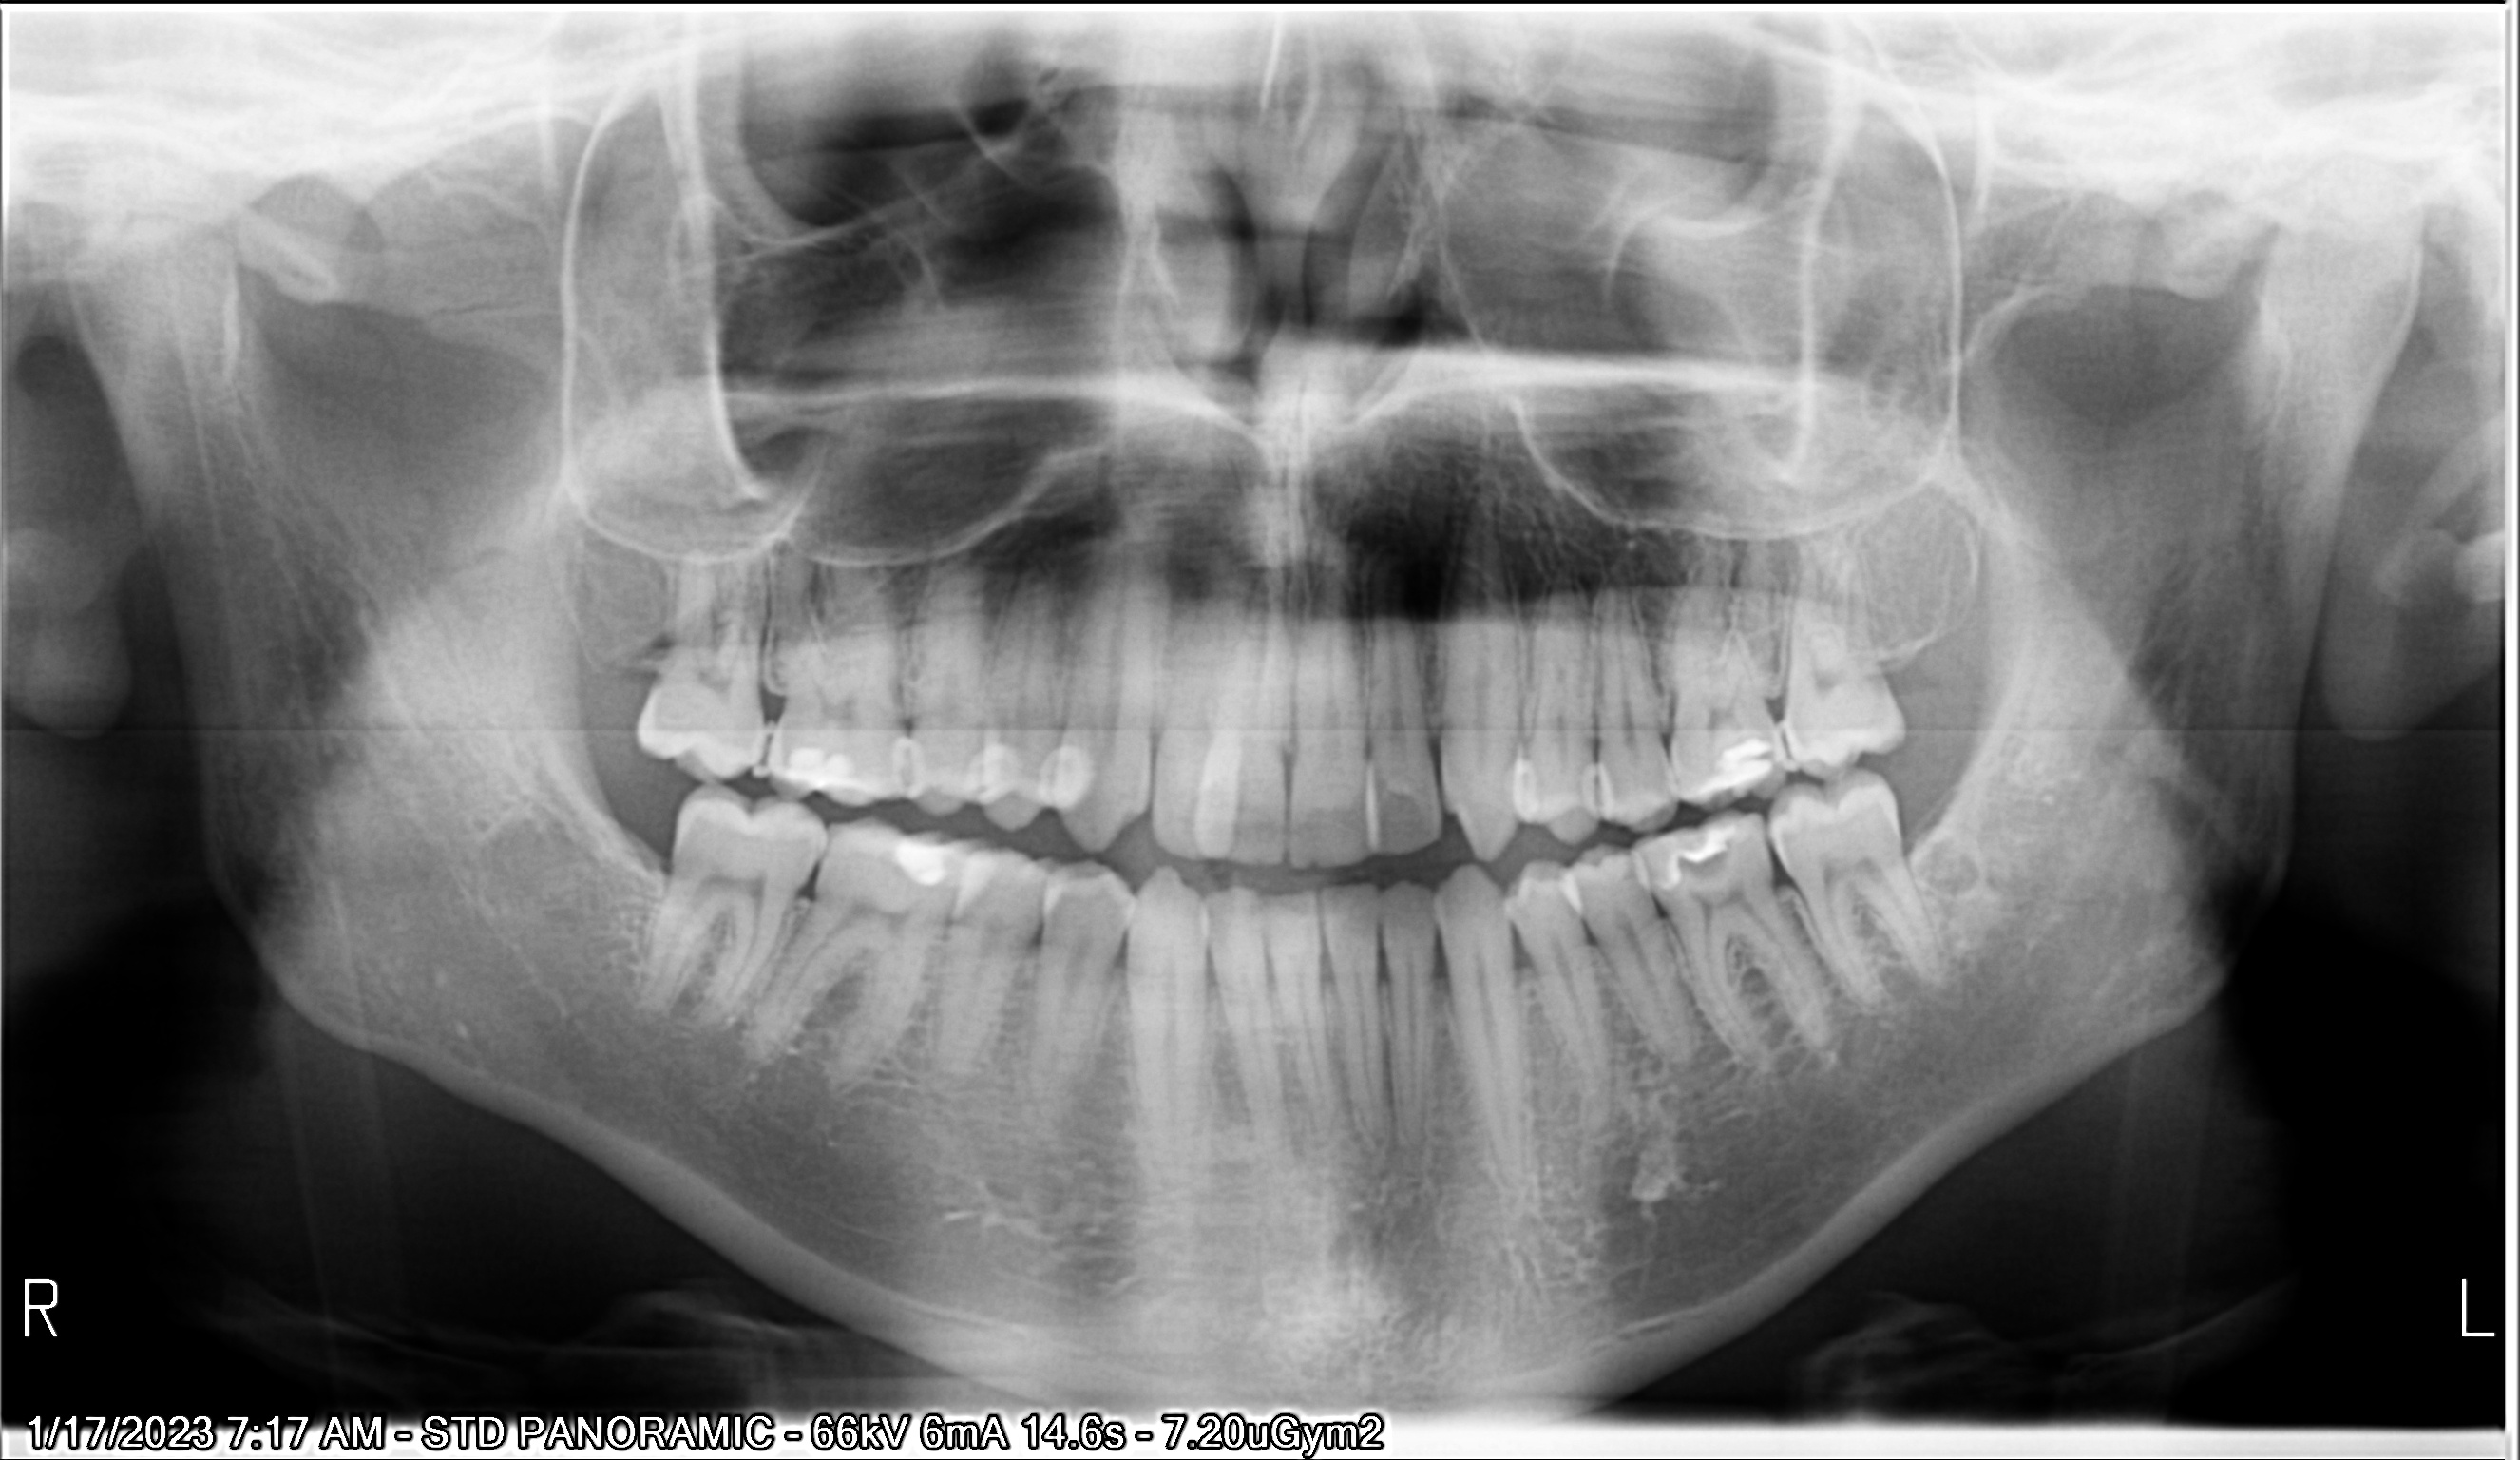CAR: (1678, 838, 1745, 892), (1784, 704, 1824, 758)
OBT: (875, 820, 971, 911), (771, 725, 875, 786), (1028, 733, 1099, 820), (1685, 733, 1766, 805), (1645, 812, 1749, 864), (1563, 749, 1603, 817), (1593, 754, 1620, 829)
